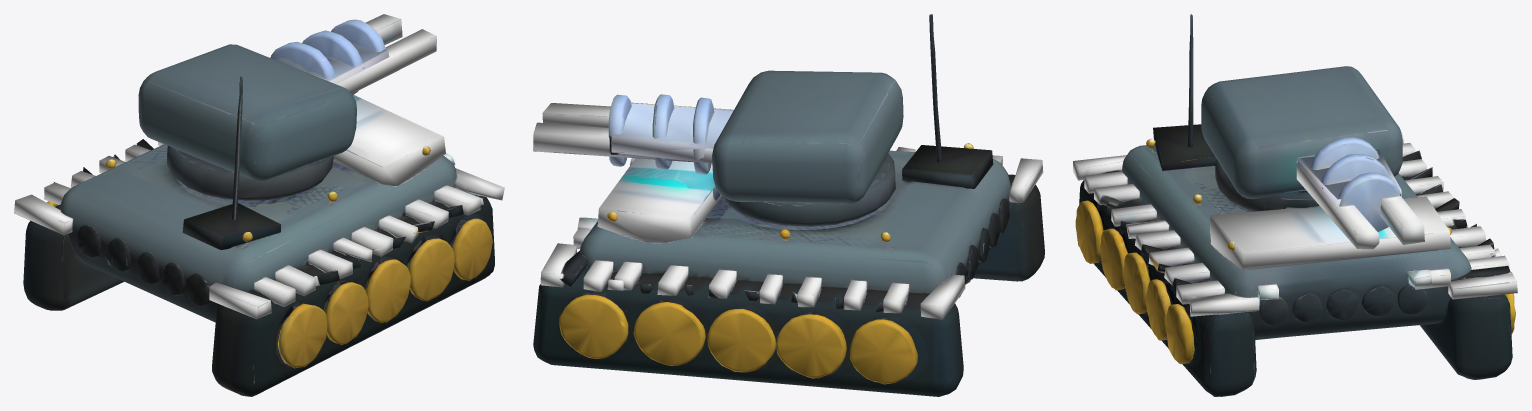
File: laser-tank.glb
The picture shows the model from 3 angles, left to right: view 1: azimuth 30°, elevation 25°; view 2: azimuth 150°, elevation 25°; view 3: azimuth 270°, elevation 25°; orthographic projection. The views are drawn at different scales.
Bounding box in the file's own units: 1 × 0.6582 × 1.
1 material, 1 textured.
